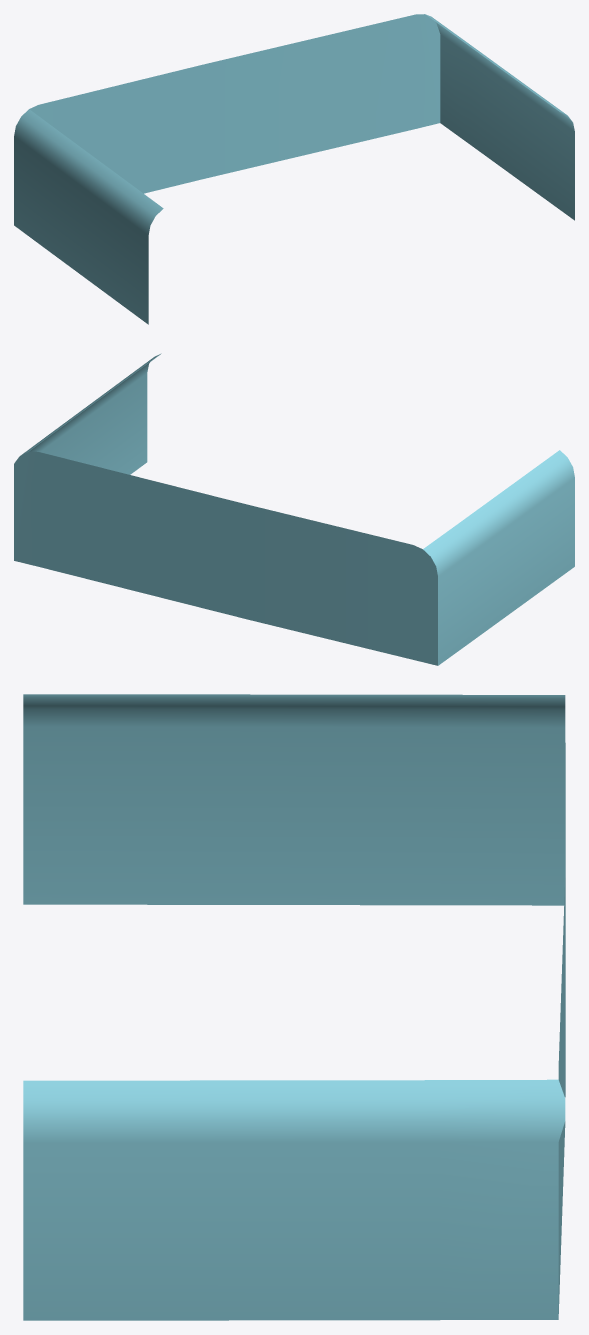
Rendered from ParedesCocina.fbx.
3 views of the same model, one above another, from view 1: azimuth 30°, elevation 25°; view 2: azimuth 150°, elevation 25°; view 3: azimuth 270°, elevation 25° (orthographic). The views are drawn at different scales.
Visible parts, largest first — view 1: ParedesCocina; view 2: ParedesCocina; view 3: ParedesCocina.
Boxes of the visible parts, left/top/right/bottom form: ParedesCocina: left=14, top=14, right=574, bottom=324; ParedesCocina: left=14, top=353, right=574, bottom=665; ParedesCocina: left=23, top=694, right=565, bottom=1320.
Bounding box in the file's own units: 2722 × 699 × 1499.
